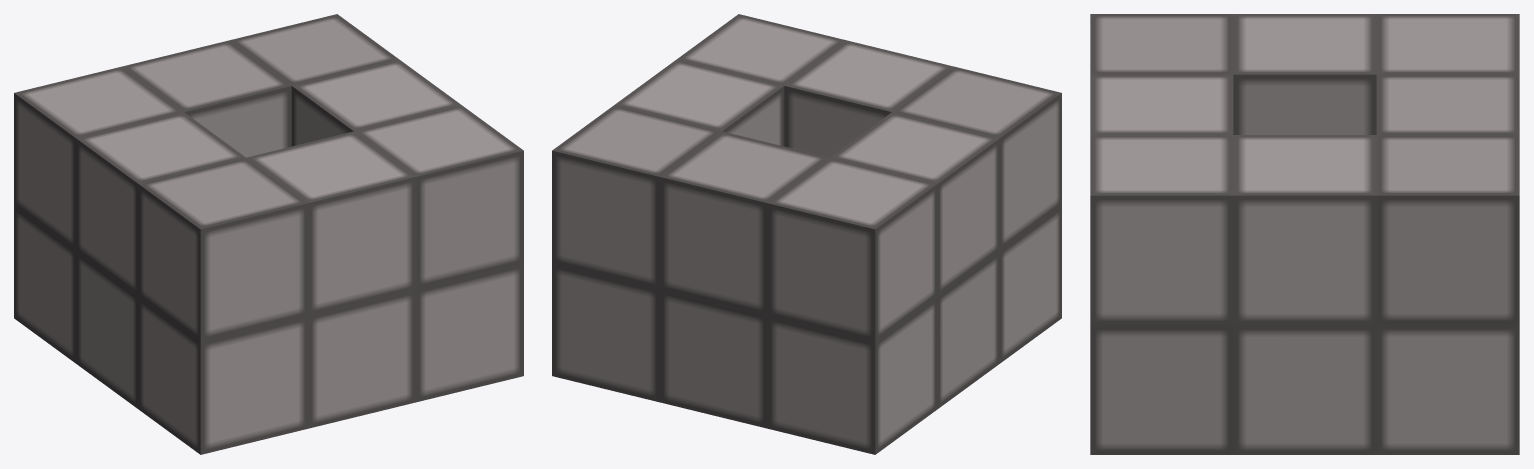
File: ashtray.glb
3 renders of one model, left to right at view 1: azimuth 30°, elevation 25°; view 2: azimuth 150°, elevation 25°; view 3: azimuth 270°, elevation 25°, orthographic. The views are drawn at different scales.
Parts seen in each view (by area): view 1: ashtray; view 2: ashtray; view 3: ashtray.
Boxes of the visible parts, x1,y1,x2,y2 form: ashtray: (14, 14, 523, 454); ashtray: (552, 14, 1061, 454); ashtray: (1090, 14, 1519, 454).
Size of the model in its own units: 0.15 by 0.1 by 0.15.
2 materials, 2 textured.
